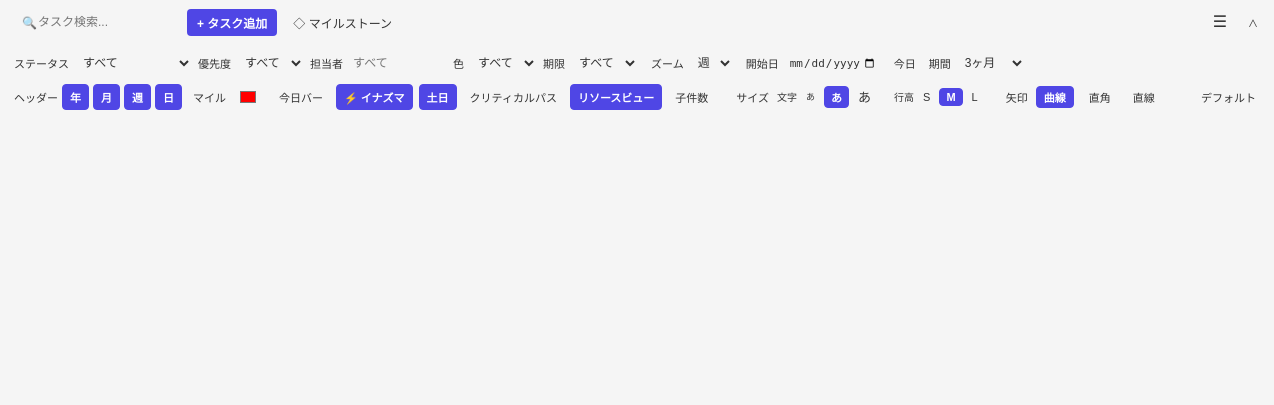
バージョン表示（ハンバーガーメニュー） › backendVersion 未指定時は Backend が「—」表示になる
Step 1. Click the button titled "メニュー" → {"x": 1220, "y": 22}, box x1=1204 y1=9 x2=1236 y2=35
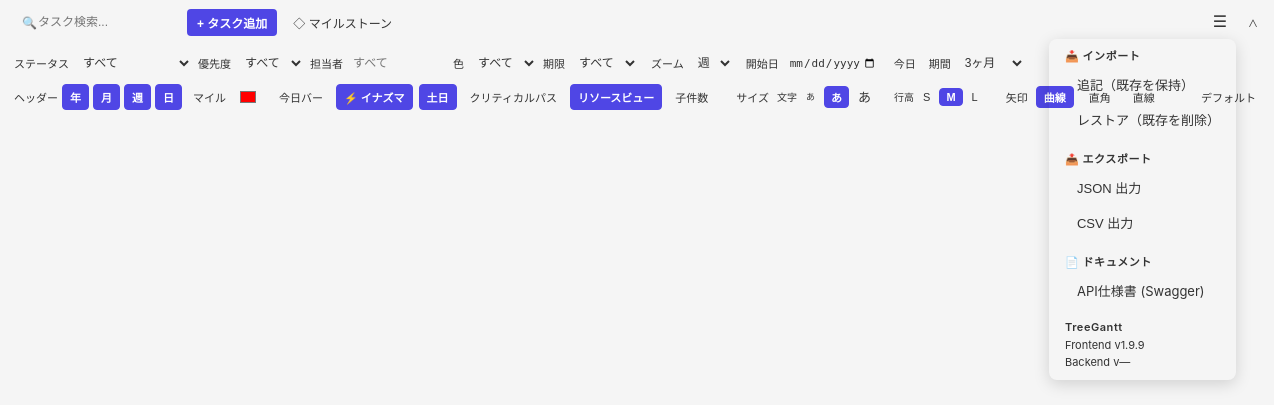
Check: the element with test id "app-version" shows "Backend v—", box x1=1065 y1=320 x2=1145 y2=369
